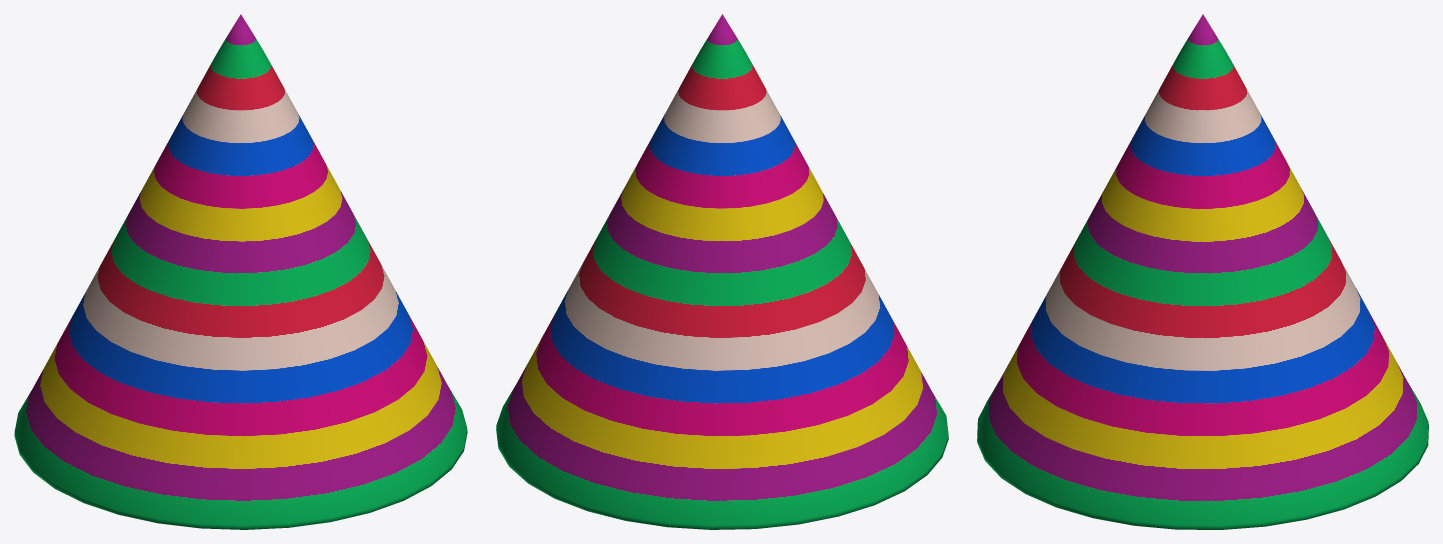
File: B-3_Onstick.fbx
The picture shows the model from 3 angles, left to right: view 1: azimuth 30°, elevation 25°; view 2: azimuth 150°, elevation 25°; view 3: azimuth 270°, elevation 25°; orthographic projection.
Visible parts, largest first — view 1: B-3; view 2: B-3; view 3: B-3.
Boxes of the visible parts, <box> form: B-3: <box>14,14,467,529</box>; B-3: <box>496,14,948,529</box>; B-3: <box>977,14,1428,529</box>.
Bounding box in the file's own units: 94.63 × 94.63 × 97.59.
